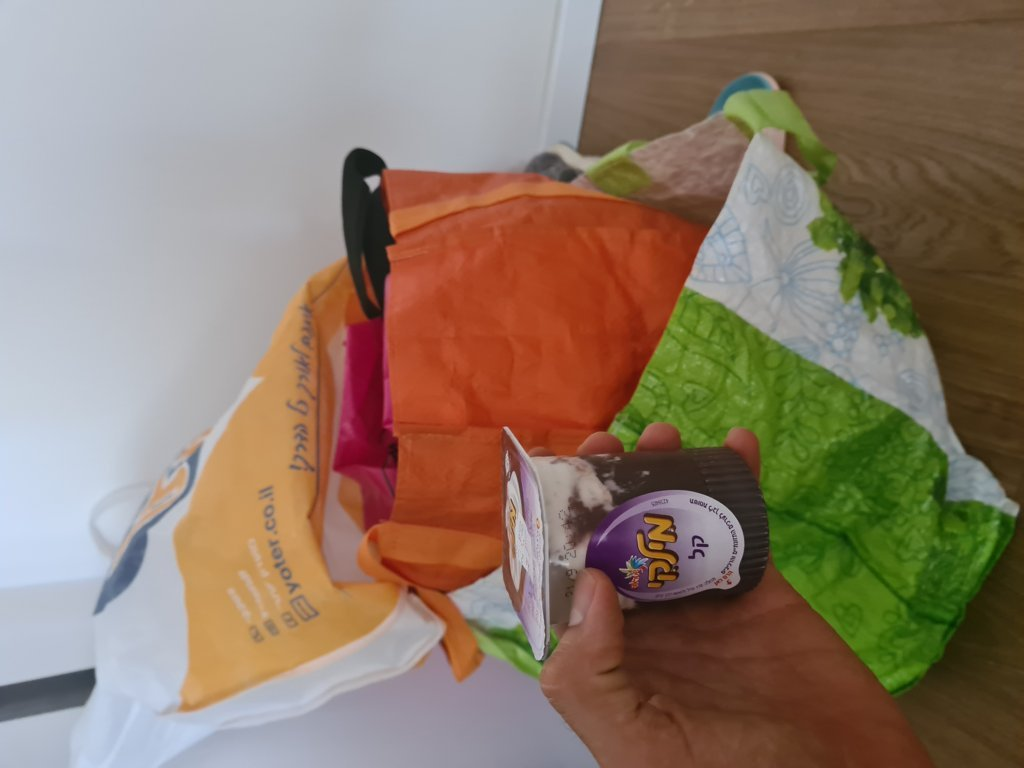milky: (486, 426, 776, 649)
